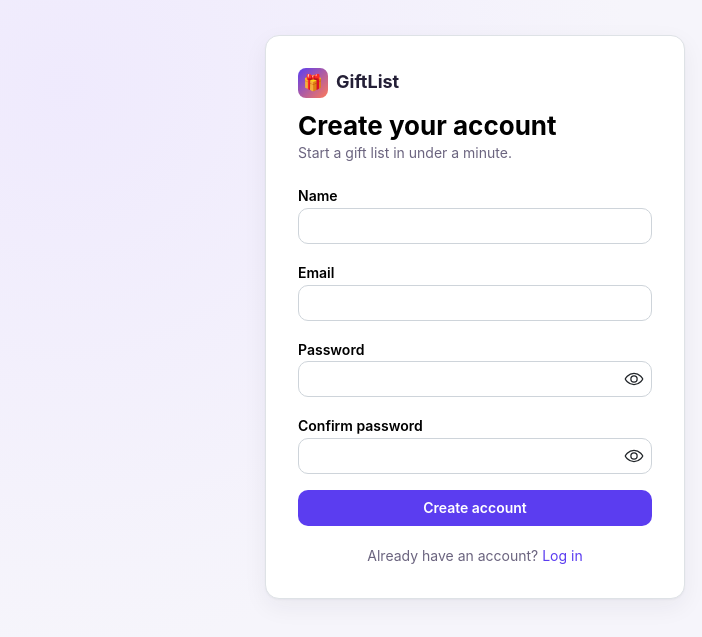
Scenario: SignUpPage › SignUpPage_ShouldShowAMismatchError_WhenPasswordsDontMatchAndShouldNotCallSignUp
In the field labelled "Name": coordinates (475, 226) [298,208,652,244], type "Ada Lovelace"
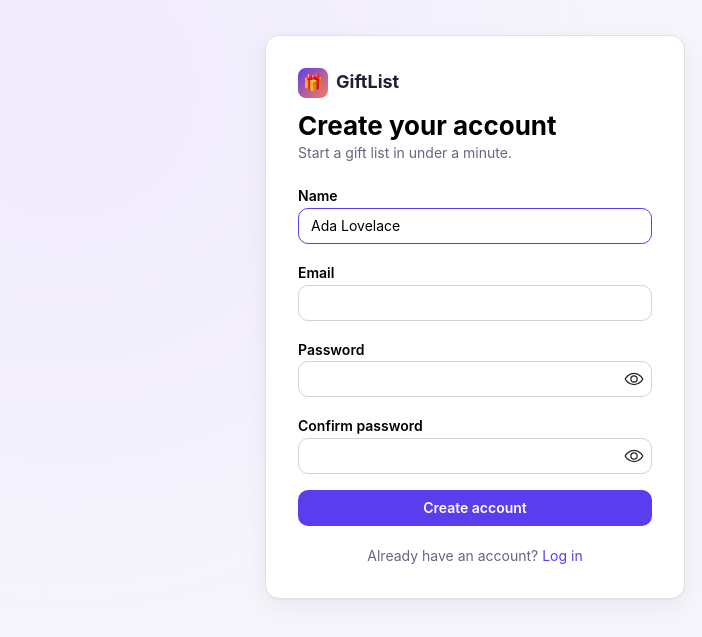
In the field labelled "Email": coordinates (475, 302) [298,284,652,320], type "ada@example.com"
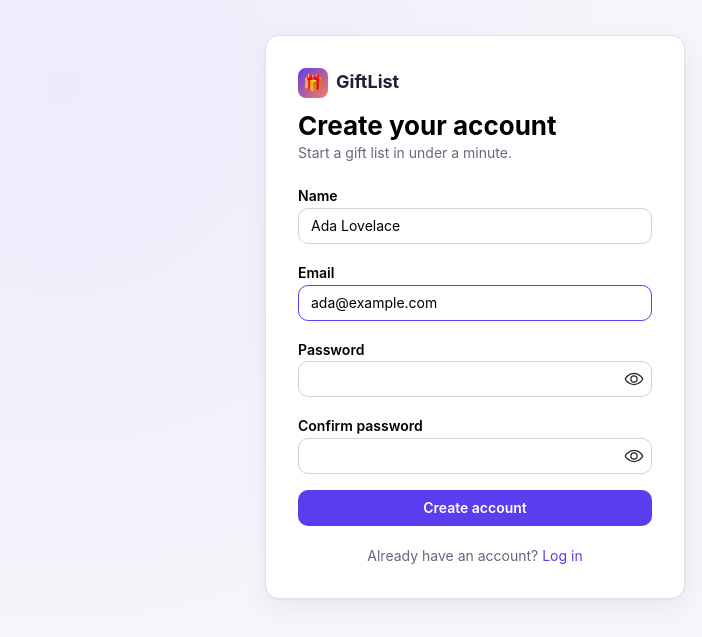
In the password field labelled "Password": coordinates (475, 379) [299,362,651,396], type "correct horse battery staple"
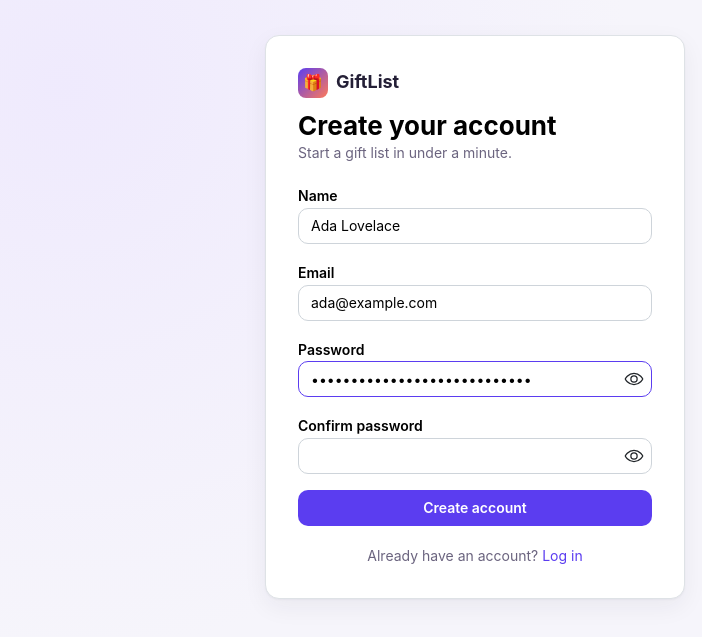
In the password field labelled "Confirm password": coordinates (475, 456) [299,439,651,473], type "something else entirely"
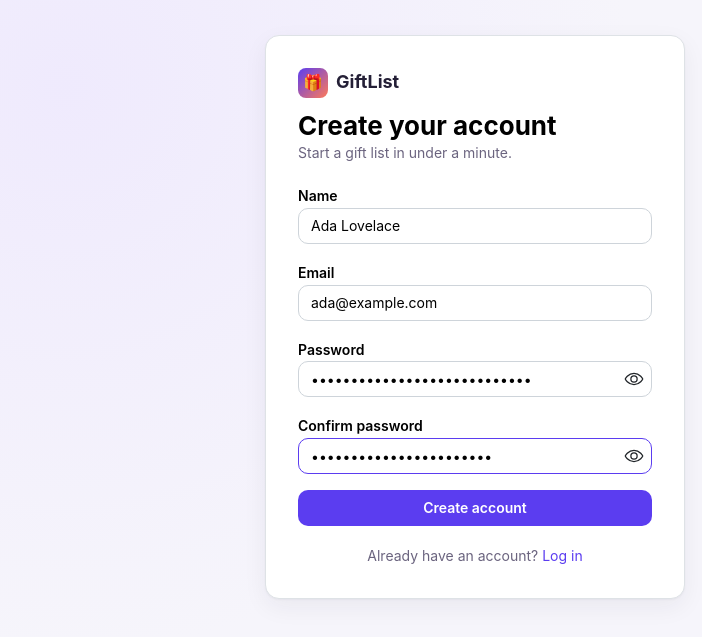
Click the button "Create account": coordinates (475, 508) [298,490,652,526]
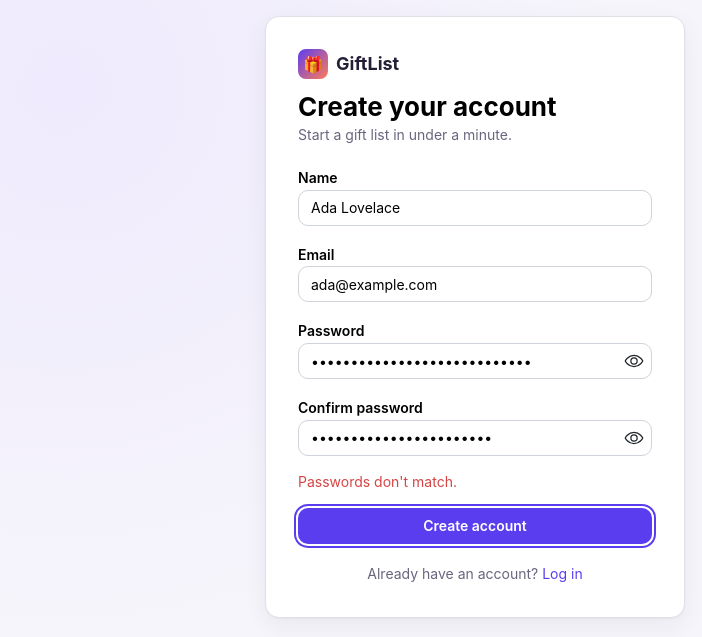
Expected: the message reads "Passwords don't match.", [298,473,457,490]
